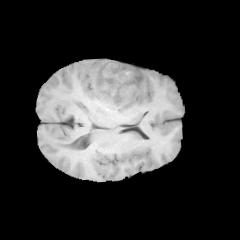glioma: (89, 59, 152, 113)
